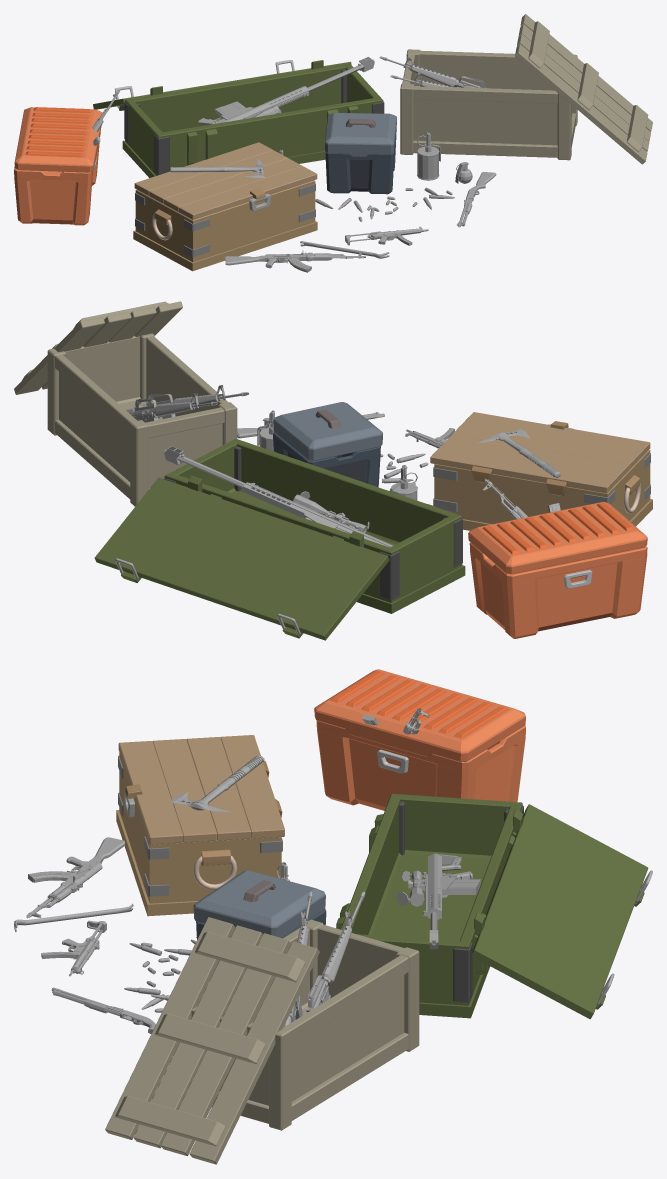
Rendered from Free Pack - Weapon Crate.fbx.
3 views of the same model, one above another, from view 1: azimuth 30°, elevation 25°; view 2: azimuth 150°, elevation 25°; view 3: azimuth 270°, elevation 25° (orthographic). The views are drawn at different scales.
Parts seen in each view (by area): view 1: SM_WeaponCrate_05_B, SM_WeaponCrate_04_B, SM_WeaponCrate_03_B, SM_Props, SM_WeaponCrate_03_L, SM_WeaponCrate_04_L, SM_WeaponCrate_02_L, SM_WeaponCrate_02_B, SM_WeaponCrate_01_L, SM_WeaponCrate_01_B, SM_WeaponCrate_05_L; view 2: SM_WeaponCrate_05_L, SM_WeaponCrate_04_B, SM_WeaponCrate_05_B, SM_WeaponCrate_02_B, SM_WeaponCrate_03_L, SM_WeaponCrate_03_B, SM_WeaponCrate_02_L, SM_Props, SM_WeaponCrate_01_L, SM_WeaponCrate_04_L, SM_WeaponCrate_01_B; view 3: SM_WeaponCrate_04_L, SM_WeaponCrate_05_L, SM_WeaponCrate_05_B, SM_WeaponCrate_04_B, SM_WeaponCrate_03_L, SM_Props, SM_WeaponCrate_02_L, SM_WeaponCrate_02_B, SM_WeaponCrate_03_B, SM_WeaponCrate_01_L.
Boxes of the visible parts, x1,y1,x2,y2 form: SM_WeaponCrate_05_B: [122, 60, 384, 177]; SM_WeaponCrate_04_B: [400, 49, 577, 160]; SM_WeaponCrate_03_B: [133, 180, 317, 271]; SM_Props: [92, 56, 496, 272]; SM_WeaponCrate_03_L: [134, 142, 317, 219]; SM_WeaponCrate_04_L: [515, 14, 652, 164]; SM_WeaponCrate_02_L: [14, 107, 102, 172]; SM_WeaponCrate_02_B: [14, 142, 99, 225]; SM_WeaponCrate_01_L: [325, 112, 396, 156]; SM_WeaponCrate_01_B: [325, 129, 396, 194]; SM_WeaponCrate_05_L: [93, 60, 351, 110]; SM_WeaponCrate_05_L: [94, 477, 389, 640]; SM_WeaponCrate_04_B: [47, 333, 237, 506]; SM_WeaponCrate_05_B: [164, 438, 465, 613]; SM_WeaponCrate_02_B: [469, 542, 647, 638]; SM_WeaponCrate_03_L: [430, 412, 650, 493]; SM_WeaponCrate_03_B: [433, 449, 652, 530]; SM_WeaponCrate_02_L: [468, 501, 647, 574]; SM_Props: [125, 385, 560, 547]; SM_WeaponCrate_01_L: [273, 402, 382, 460]; SM_WeaponCrate_04_L: [14, 301, 182, 394]; SM_WeaponCrate_01_B: [273, 432, 380, 487]; SM_WeaponCrate_04_L: [105, 917, 319, 1164]; SM_WeaponCrate_05_L: [471, 804, 652, 1018]; SM_WeaponCrate_05_B: [336, 793, 523, 1018]; SM_WeaponCrate_04_B: [178, 919, 419, 1130]; SM_WeaponCrate_03_L: [118, 735, 284, 844]; SM_Props: [14, 707, 480, 1033]; SM_WeaponCrate_02_L: [314, 669, 525, 762]; SM_WeaponCrate_02_B: [316, 720, 525, 810]; SM_WeaponCrate_03_B: [116, 752, 282, 916]; SM_WeaponCrate_01_L: [193, 870, 325, 937].
Bounding box in the file's own units: 401 × 75.82 × 267.
